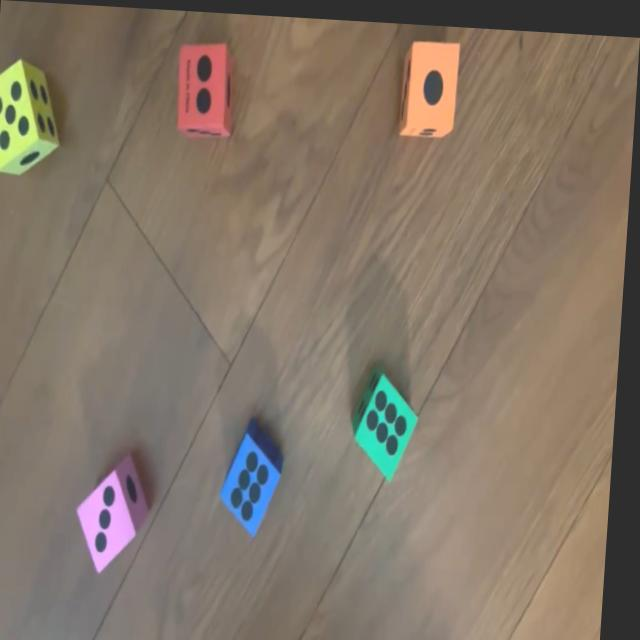cube: (352, 360, 426, 477), (223, 414, 291, 533), (174, 40, 239, 141)
